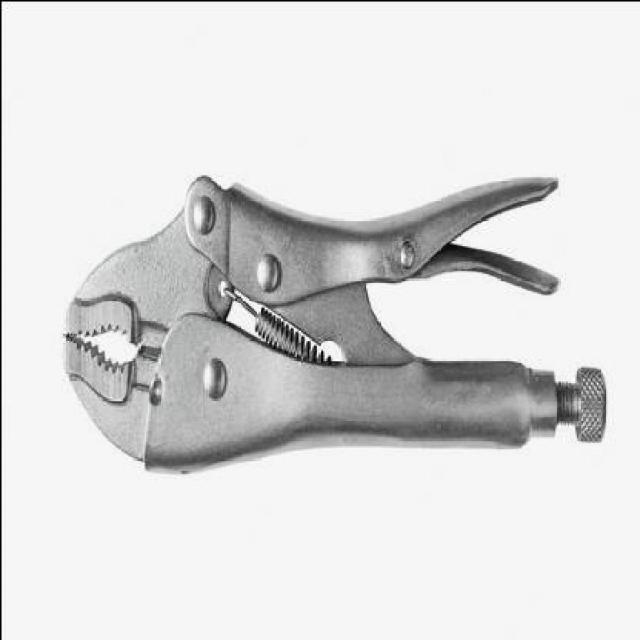pliers: (58, 168, 606, 472)
